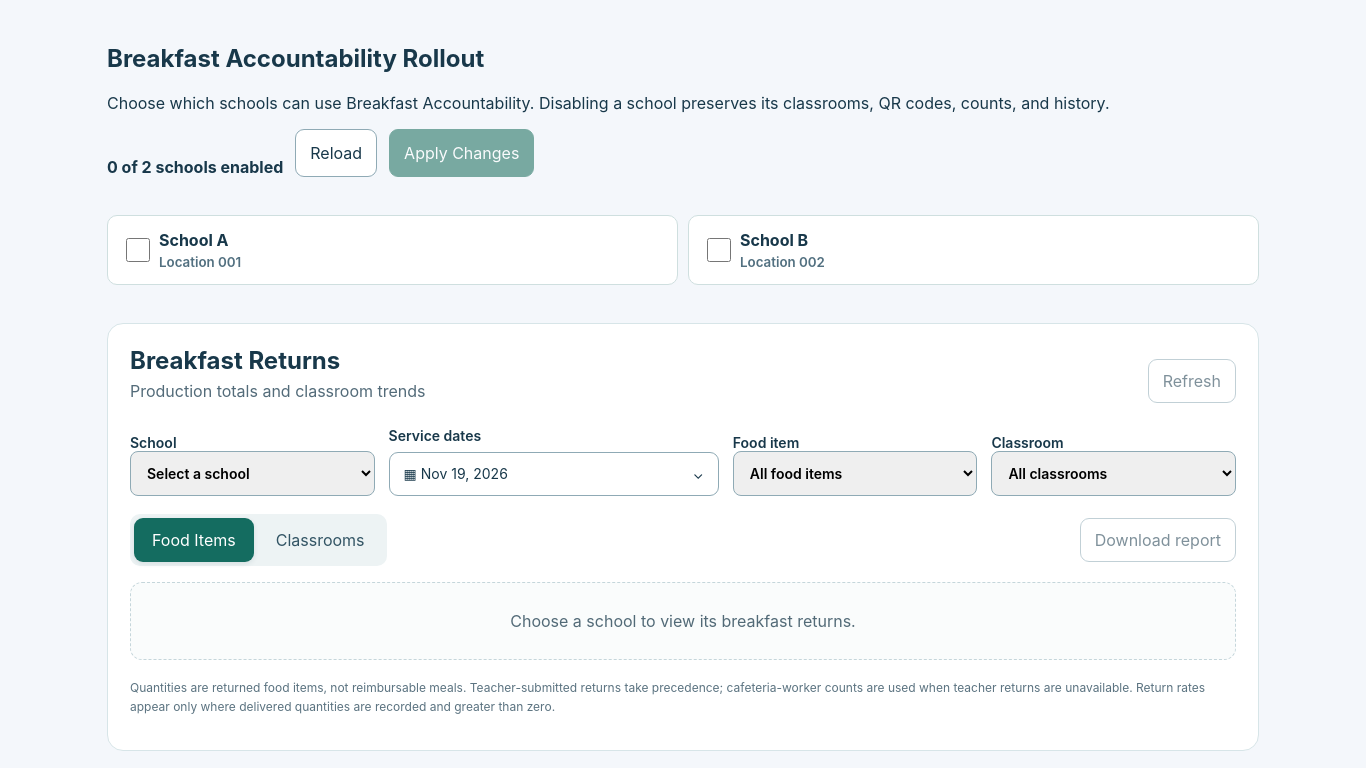
Test: loads default OFF and applies only selected schools with supervisor credentials
The width and height of the screenshot is (1366, 768).
Expected: the button "Apply Changes" is disabled, 389,129 -> 534,177
Click the checkbox labelled "School A Location 001" at (138, 250), box 126,238 -> 150,262
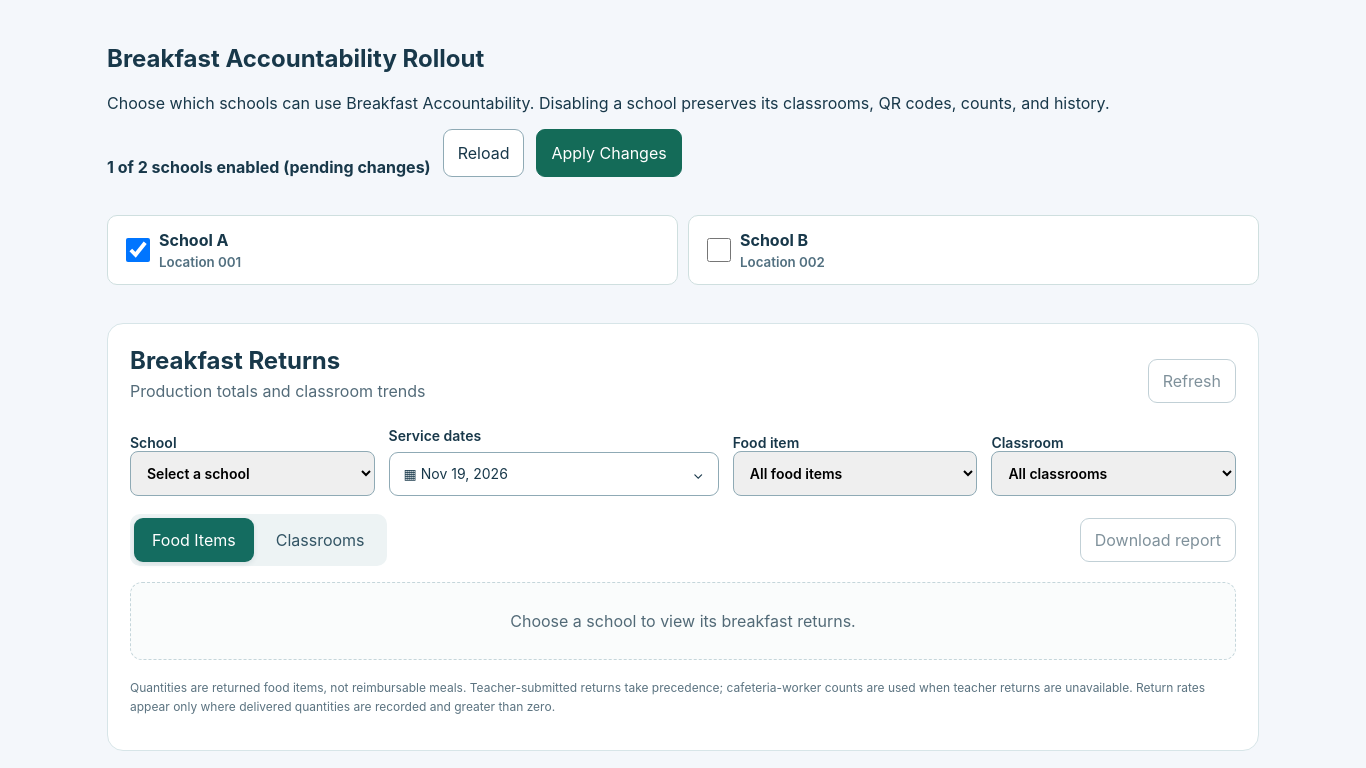
Expected: the text "1 of 2 schools enabled (pending changes)" is shown, 107,157 -> 431,177
Click the button "Apply Changes" at (609, 153), box 536,129 -> 682,177
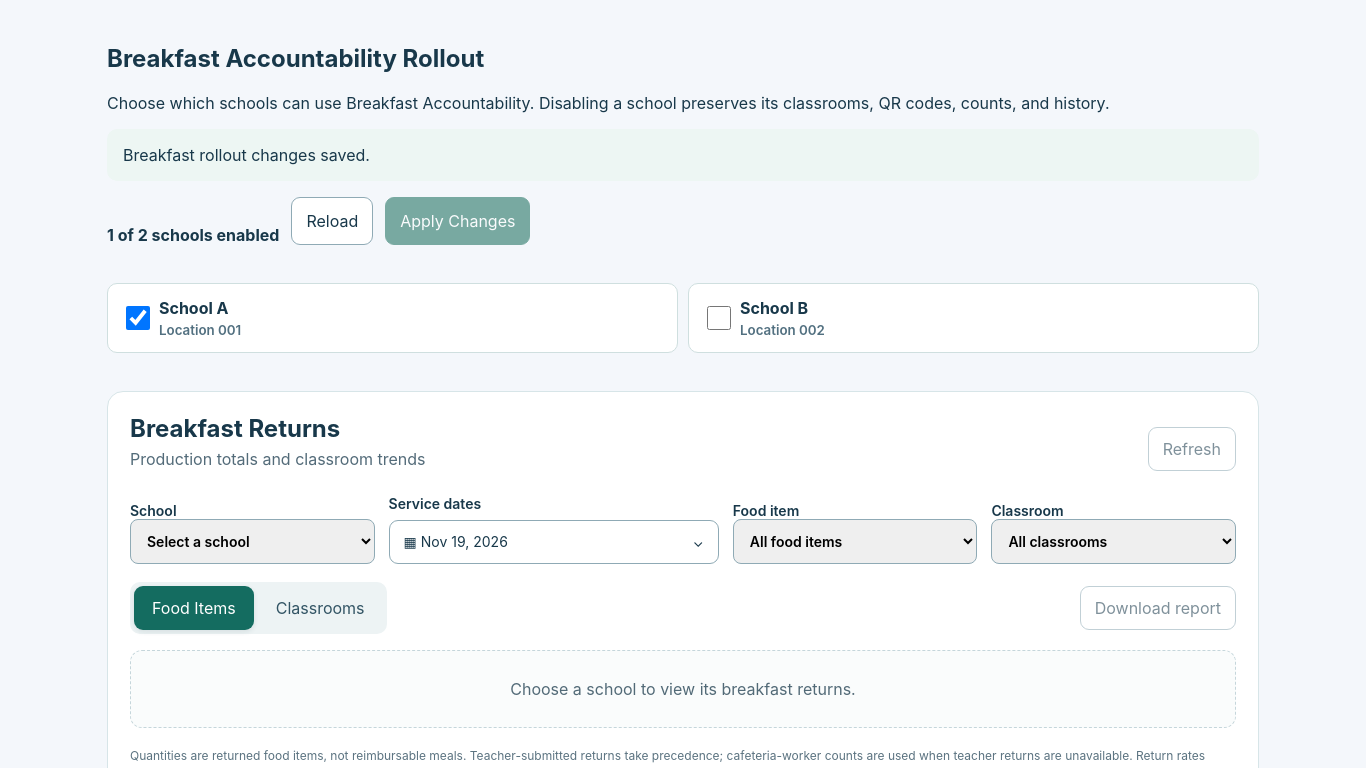
Expected: the checkbox labelled "School B Location 002" is not checked, 707,306 -> 731,330
Expected: the text "changes saved" is shown, 123,145 -> 370,165
